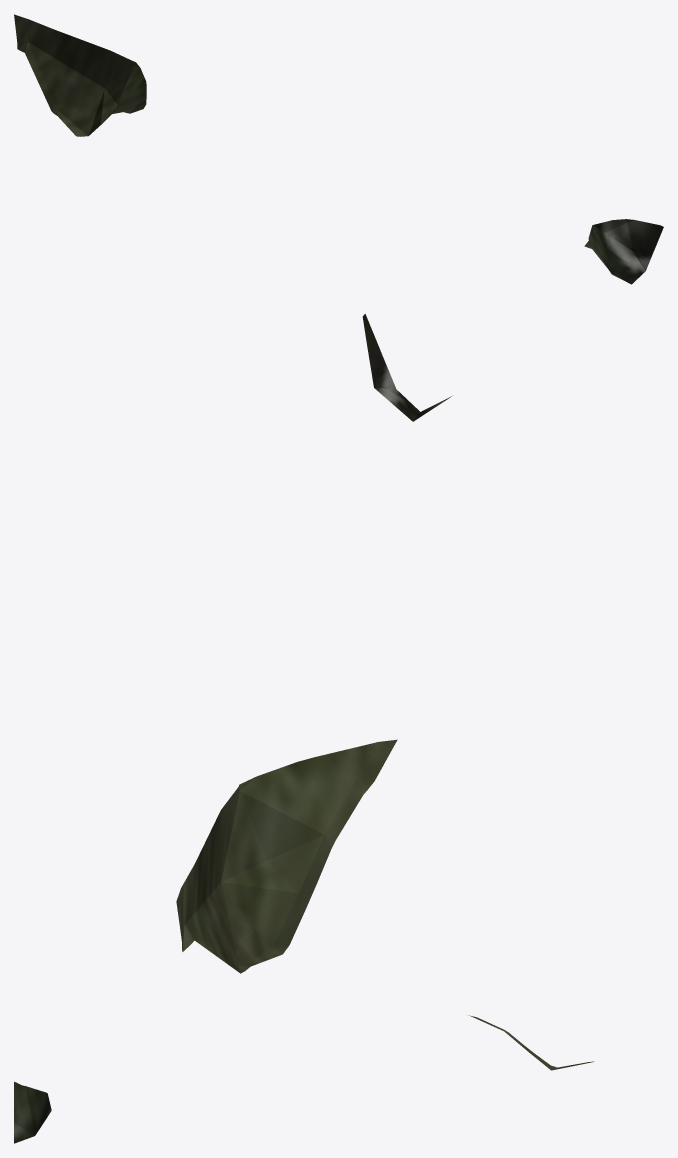
3 views of the same model, one above another, from view 1: azimuth 30°, elevation 25°; view 2: azimuth 150°, elevation 25°; view 3: azimuth 270°, elevation 25° (orthographic). The views are drawn at different scales.
Size of the model in its own units: 1.2 by 0.3245 by 2.92.
1 material, 1 textured.
